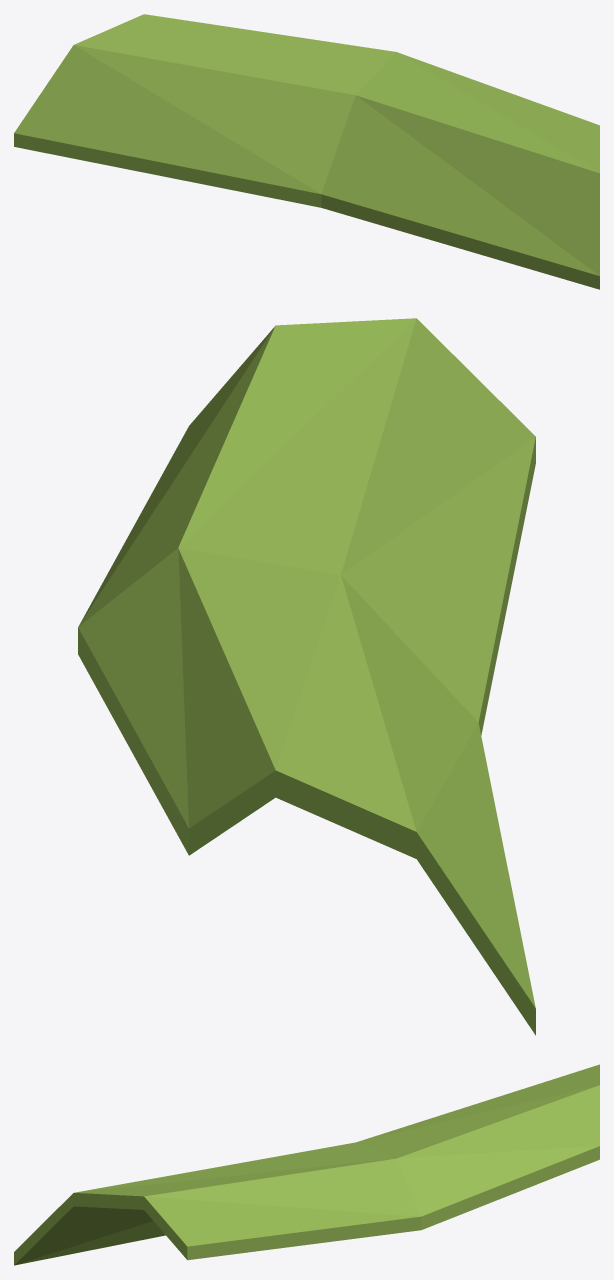
3 renders of one model, top to bottom at view 1: azimuth 30°, elevation 25°; view 2: azimuth 150°, elevation 25°; view 3: azimuth 270°, elevation 25°, orthographic. The views are drawn at different scales.
Visible parts, largest first — view 1: 汇流岸角_3.001; view 2: 汇流岸角_3.001; view 3: 汇流岸角_3.001.
Part boxes in pixels (bbox=[...]): 汇流岸角_3.001: bbox=[14, 14, 599, 289]; 汇流岸角_3.001: bbox=[78, 318, 535, 1035]; 汇流岸角_3.001: bbox=[14, 1064, 599, 1265].
Size of the model in its own units: 0.3503 by 0.089 by 0.4682.
